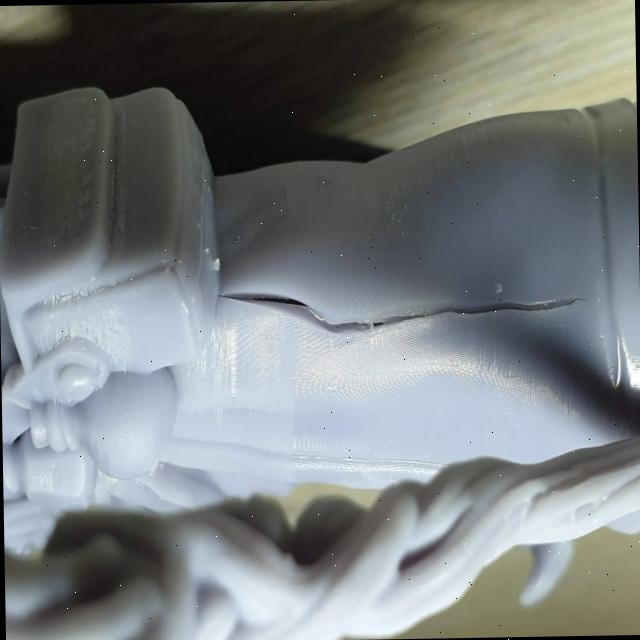cracks: (224, 245, 566, 358)
